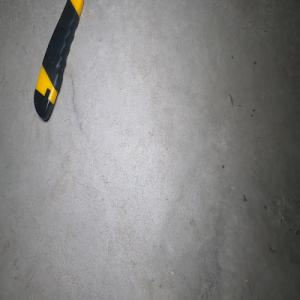Cutter: (32, 0, 84, 121)
